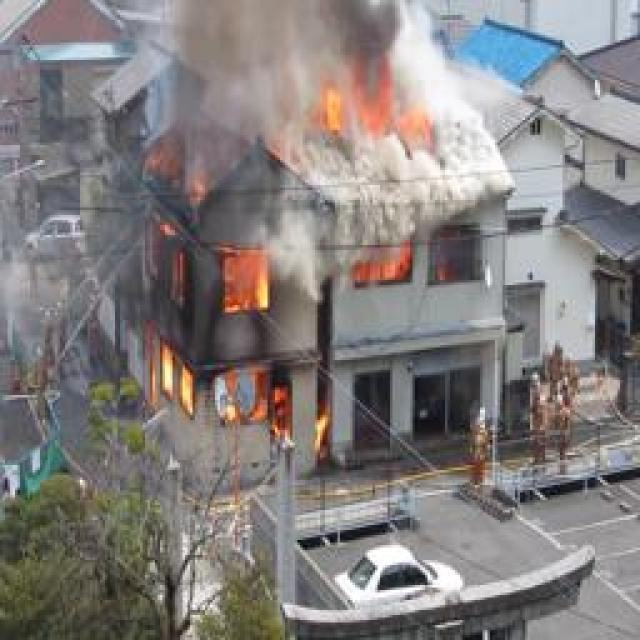Fire: (144, 154, 335, 450), (324, 67, 424, 138), (350, 242, 420, 288)
